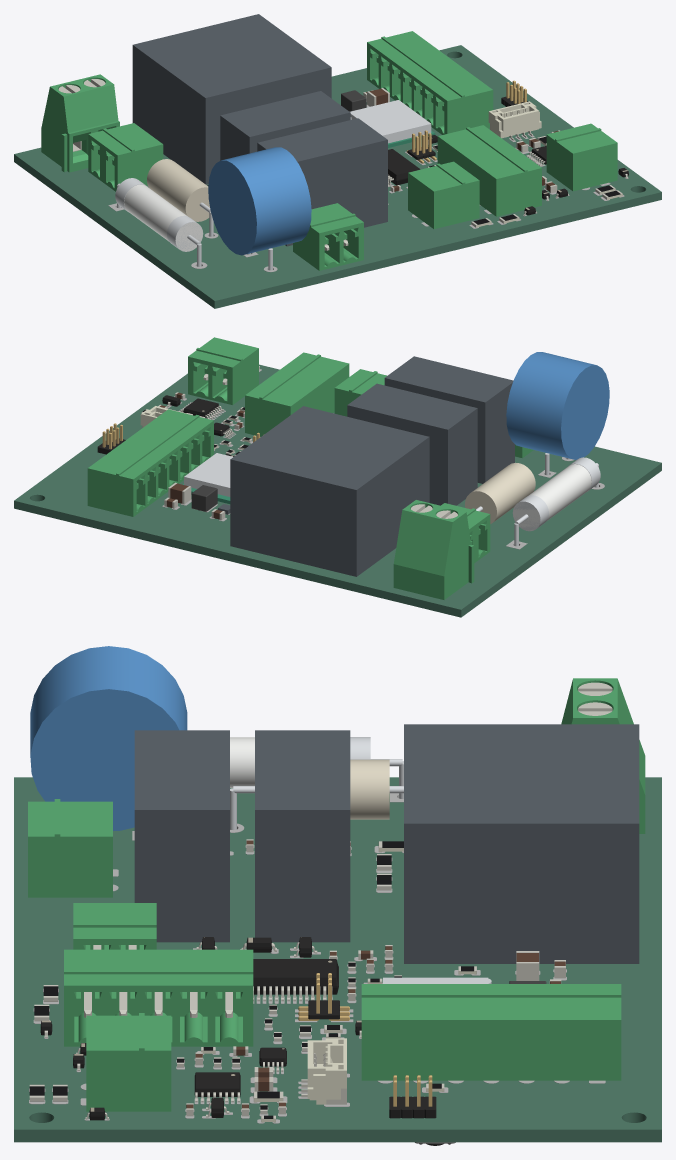
Rendered from pump-controller-rev-b.glb.
3 renders of one model, top to bottom at view 1: azimuth 30°, elevation 25°; view 2: azimuth 150°, elevation 25°; view 3: azimuth 270°, elevation 25°, orthographic. The views are drawn at different scales.
Visible parts, largest first — view 1: =>[0:1:1:133], =>[0:1:1:67], =>[0:1:1:21] (×2), =>[0:1:1:51] (×3), =>[0:1:1:75], =>[0:1:1:73], =>[0:1:1:55], =>[0:1:1:19], =>[0:1:1:9], =>[0:1:1:29], =>[0:1:1:41], =>[0:1:1:12] (+7 smaller); view 2: =>[0:1:1:67], =>[0:1:1:133], =>[0:1:1:21] (×2), =>[0:1:1:75], =>[0:1:1:73], =>[0:1:1:19], =>[0:1:1:51] (×2), =>[0:1:1:55], =>[0:1:1:29], =>[0:1:1:41], =>[0:1:1:12], =>[0:1:1:9] (+5 smaller); view 3: =>[0:1:1:133], =>[0:1:1:67], =>[0:1:1:21] (×2), =>[0:1:1:73], =>[0:1:1:51] (×3), =>[0:1:1:75], =>[0:1:1:55], =>[0:1:1:132], =>[0:1:1:19], =>[0:1:1:39], =>[0:1:1:79], =>[0:1:1:29] (+6 smaller).
Part boxes in pixels (bbox=[...]): =>[0:1:1:133]: bbox=[14, 45, 661, 308]; =>[0:1:1:67]: bbox=[132, 14, 331, 184]; =>[0:1:1:21] (×2): bbox=[220, 91, 387, 246]; =>[0:1:1:51] (×3): bbox=[293, 123, 617, 270]; =>[0:1:1:75]: bbox=[208, 147, 311, 255]; =>[0:1:1:73]: bbox=[367, 31, 493, 134]; =>[0:1:1:55]: bbox=[437, 125, 541, 216]; =>[0:1:1:19]: bbox=[41, 74, 119, 172]; =>[0:1:1:9]: bbox=[88, 123, 163, 191]; =>[0:1:1:29]: bbox=[147, 159, 209, 221]; =>[0:1:1:41]: bbox=[124, 184, 202, 251]; =>[0:1:1:12]: bbox=[350, 100, 431, 143]; =>[0:1:1:67]: bbox=[230, 406, 429, 576]; =>[0:1:1:133]: bbox=[14, 364, 661, 617]; =>[0:1:1:21] (×2): bbox=[347, 356, 514, 505]; =>[0:1:1:75]: bbox=[506, 352, 609, 459]; =>[0:1:1:73]: bbox=[87, 409, 213, 516]; =>[0:1:1:19]: bbox=[393, 500, 474, 599]; =>[0:1:1:51] (×2): bbox=[188, 337, 386, 416]; =>[0:1:1:55]: bbox=[245, 352, 349, 436]; =>[0:1:1:29]: bbox=[465, 462, 535, 523]; =>[0:1:1:41]: bbox=[513, 464, 591, 530]; =>[0:1:1:12]: bbox=[184, 453, 232, 496]; =>[0:1:1:9]: bbox=[441, 503, 490, 562]; =>[0:1:1:133]: bbox=[14, 777, 661, 1142]; =>[0:1:1:67]: bbox=[404, 724, 639, 963]; =>[0:1:1:21] (×2): bbox=[134, 730, 350, 942]; =>[0:1:1:73]: bbox=[361, 984, 621, 1080]; =>[0:1:1:51] (×3): bbox=[28, 799, 171, 1111]; =>[0:1:1:75]: bbox=[30, 646, 187, 830]; =>[0:1:1:55]: bbox=[64, 949, 253, 1046]; =>[0:1:1:132]: bbox=[29, 793, 605, 1123]; =>[0:1:1:19]: bbox=[561, 678, 645, 833]; =>[0:1:1:39]: bbox=[253, 959, 338, 1001]; =>[0:1:1:79]: bbox=[301, 1038, 346, 1104]; =>[0:1:1:29]: bbox=[350, 759, 389, 819].
Bounding box in the file's own units: 0.09 × 0.0267 × 0.07.
